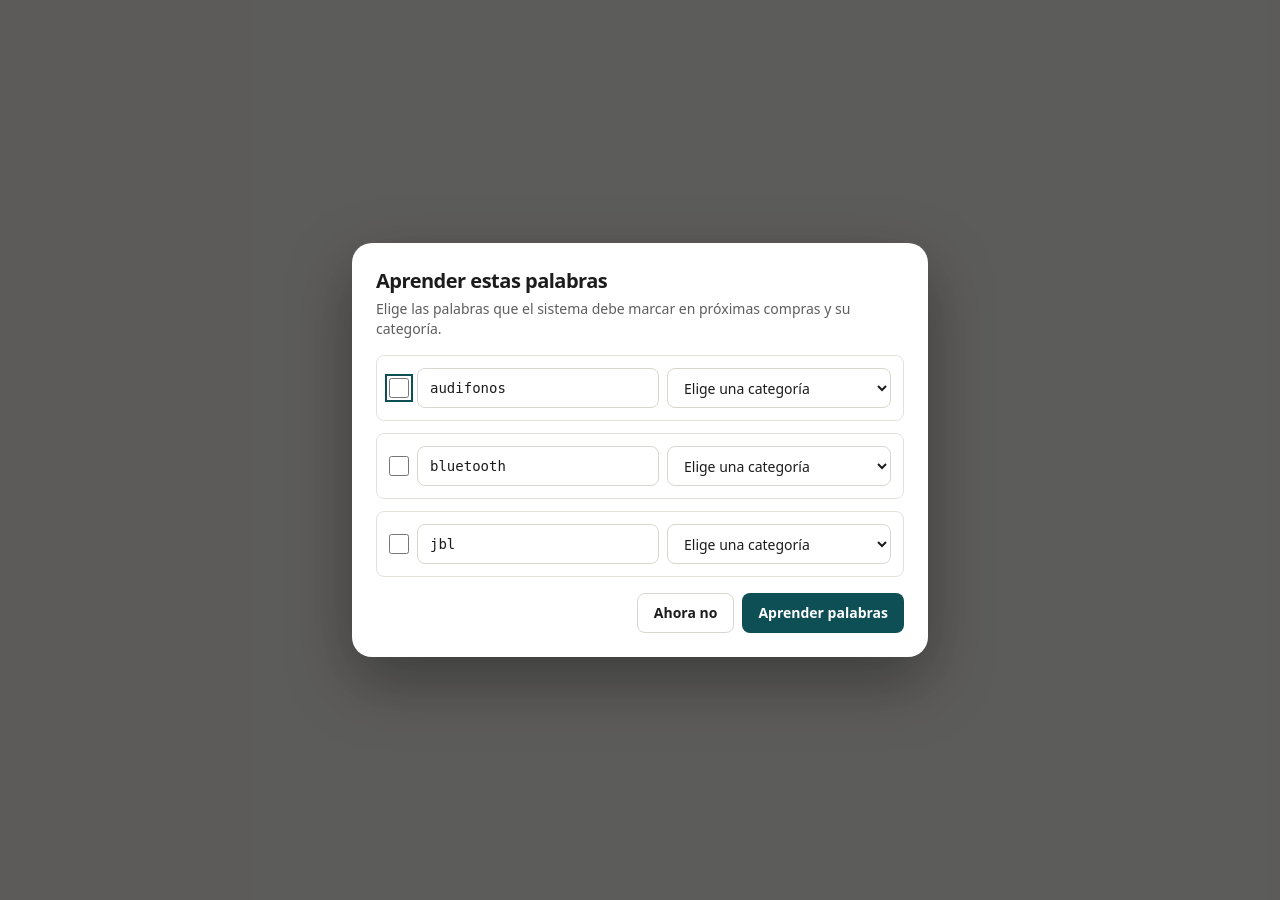
Test: <AprenderPalabras /> · guardar (R-7, CA-9) › una marcada sin categoría: la categoría es obligatoria, no envía
Click the checkbox named "Incluir el término 2" at x=399, y=466, box [389,456,409,476]
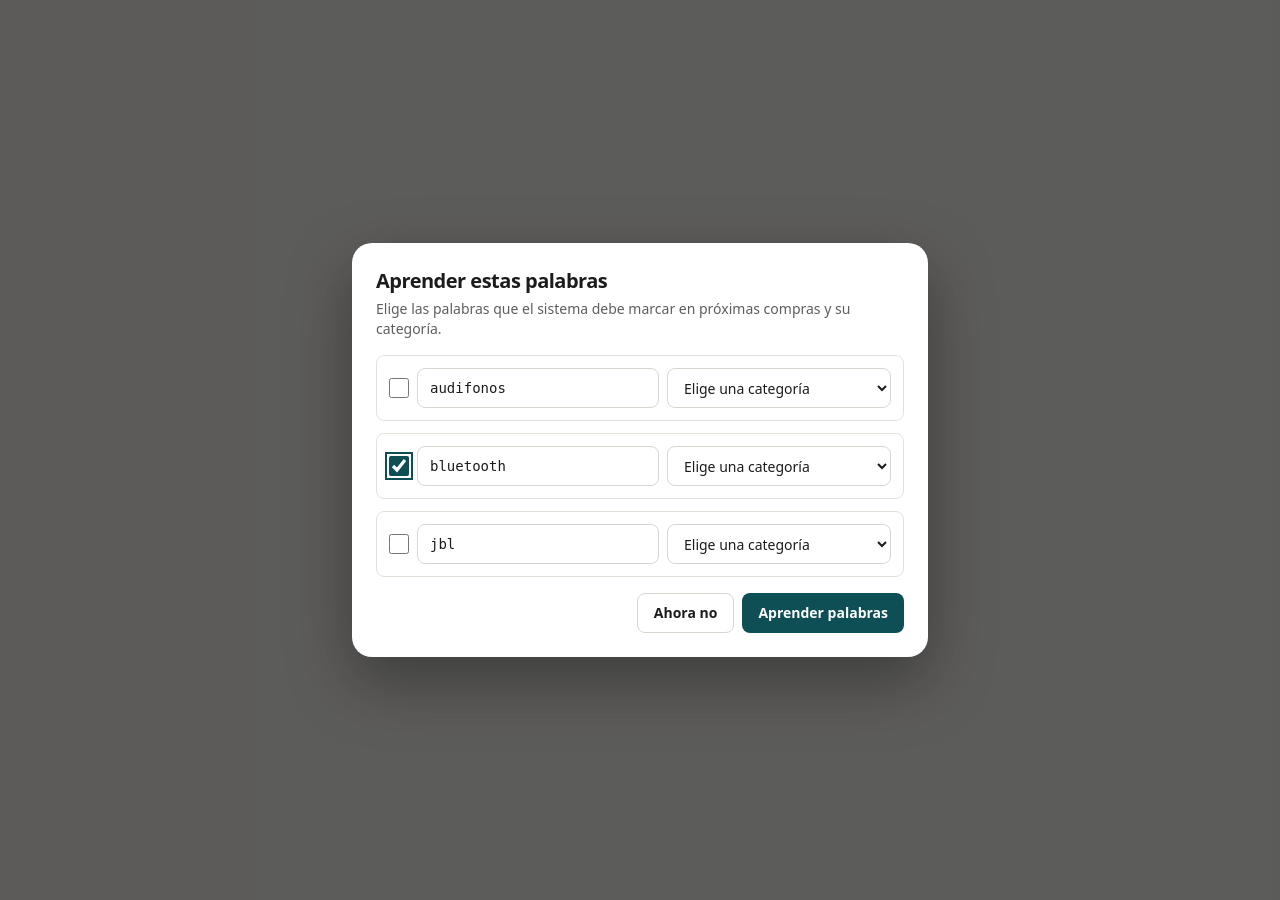
Click the button "Aprender palabras" at x=823, y=613, box [742,593,904,633]
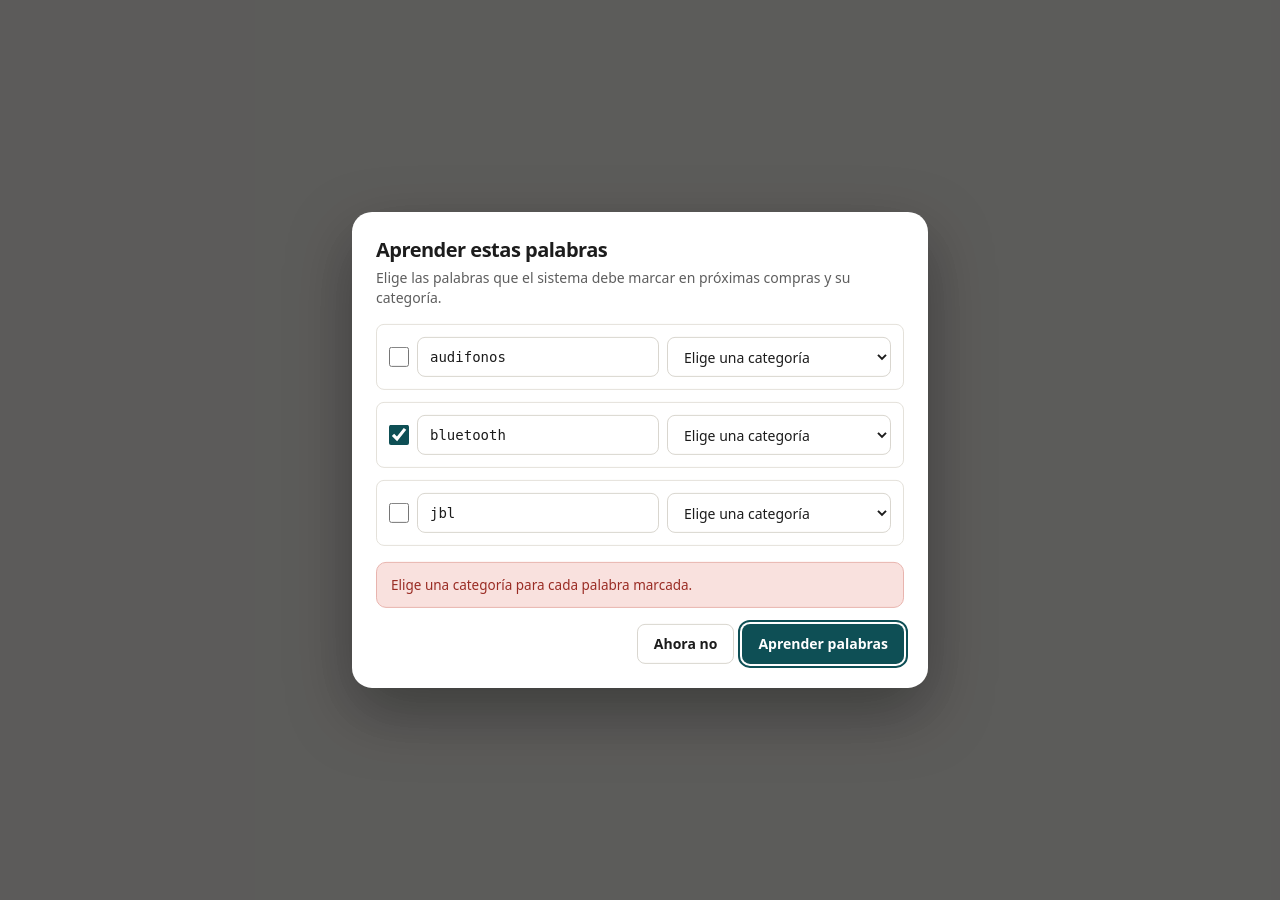
Now the message reads "Elige una categoría para cada palabra marcada.", box [391,576,692,594]
